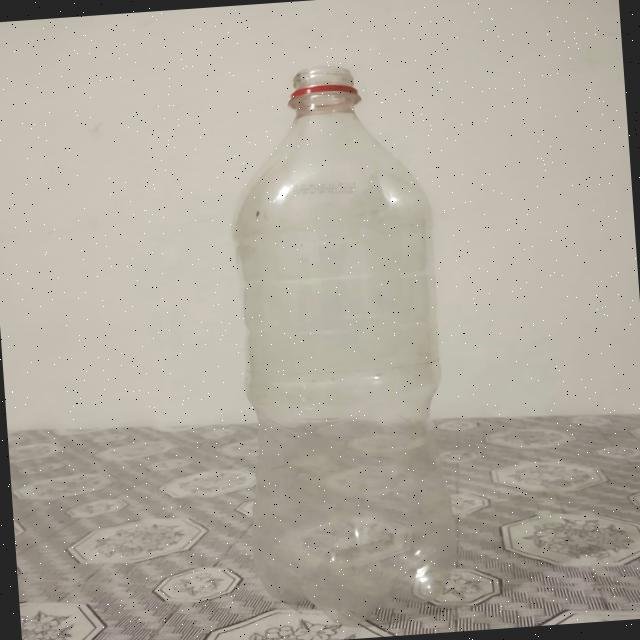bottle: (220, 58, 463, 629)
